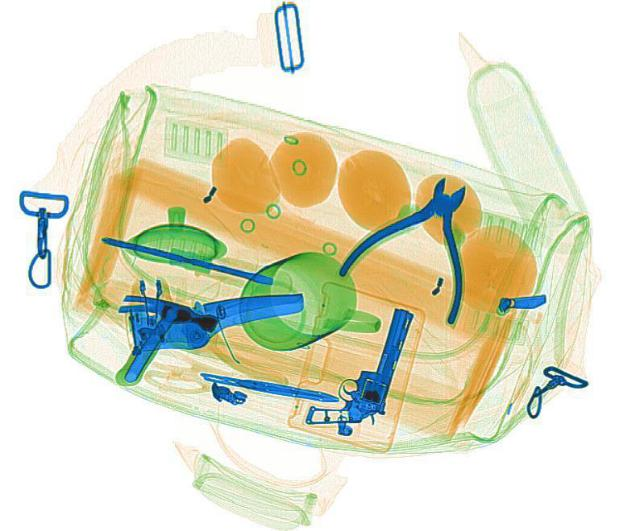Gun: (304, 297, 422, 441)
Pliers: (329, 162, 519, 323)
